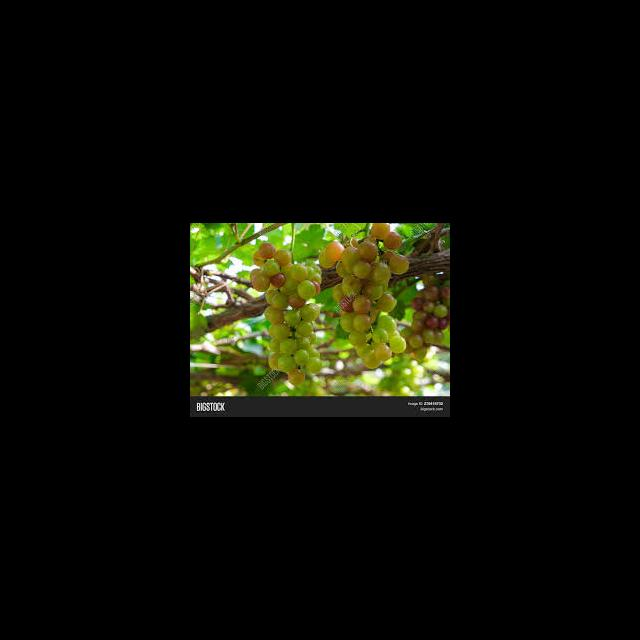grape: (318, 223, 409, 369), (249, 241, 322, 386)
